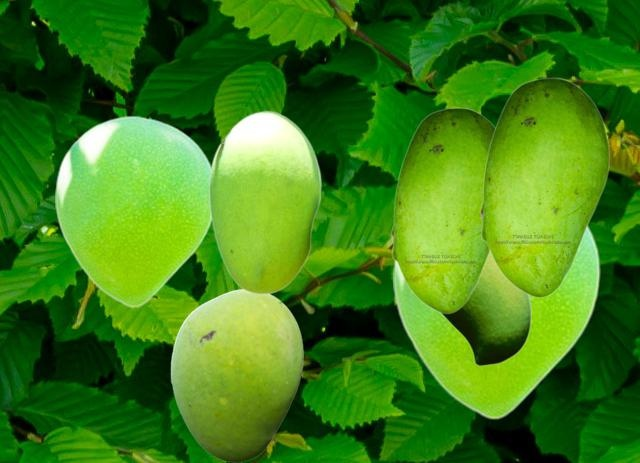green_mango: (393, 224, 599, 419), (55, 115, 211, 307), (479, 77, 609, 297), (170, 289, 302, 461), (390, 107, 494, 313), (208, 110, 320, 293), (441, 255, 530, 365)
